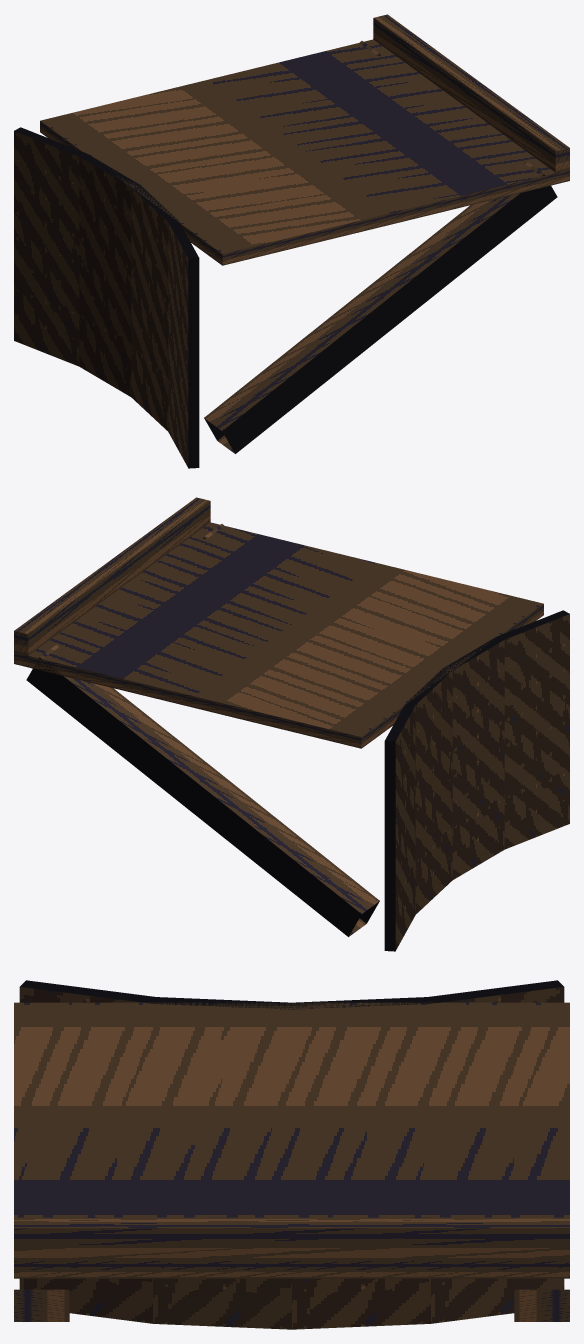
Rendered from PUE-02_Mensula_de_amarre.gltf.
The picture shows the model from 3 angles, top to bottom: view 1: azimuth 30°, elevation 25°; view 2: azimuth 150°, elevation 25°; view 3: azimuth 270°, elevation 25°; orthographic projection. The views are drawn at different scales.
Visible parts, largest first — view 1: PUE-02_Mensula_de_amarre-col; view 2: PUE-02_Mensula_de_amarre-col; view 3: PUE-02_Mensula_de_amarre-col.
Boxes of the visible parts, x1,y1,x2,y2 form: PUE-02_Mensula_de_amarre-col: (14,14,569,468); PUE-02_Mensula_de_amarre-col: (14,497,569,951); PUE-02_Mensula_de_amarre-col: (14,980,569,1329).
Size of the model in its own units: 2.39 by 1.4 by 2.
1 material, 1 textured.
